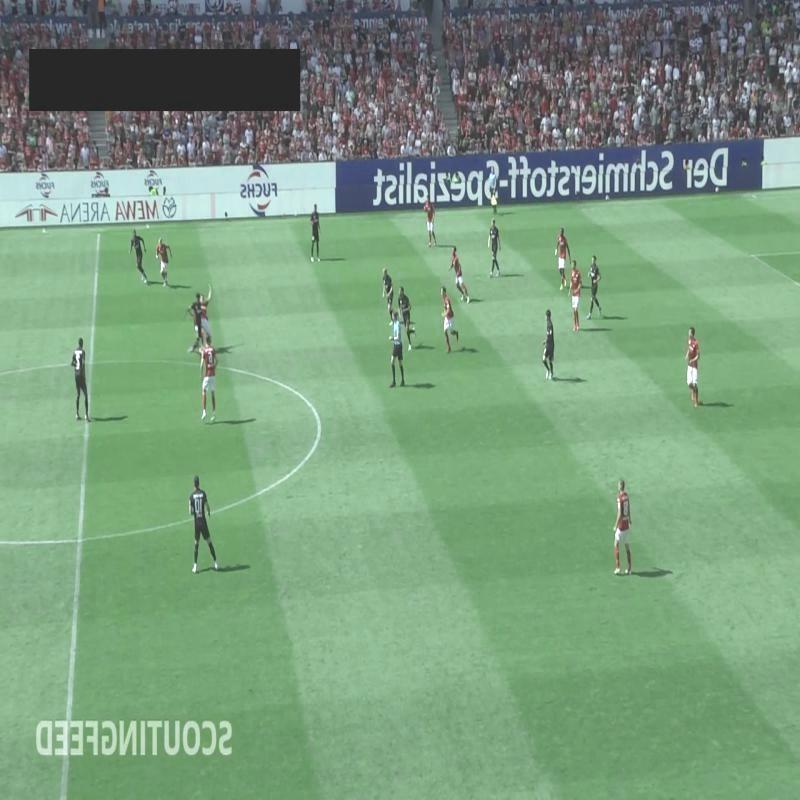13: (92, 224, 106, 238)
14: (79, 352, 105, 376)
15: (68, 532, 88, 552)
9: (746, 247, 760, 261)
c: (312, 414, 326, 428)
